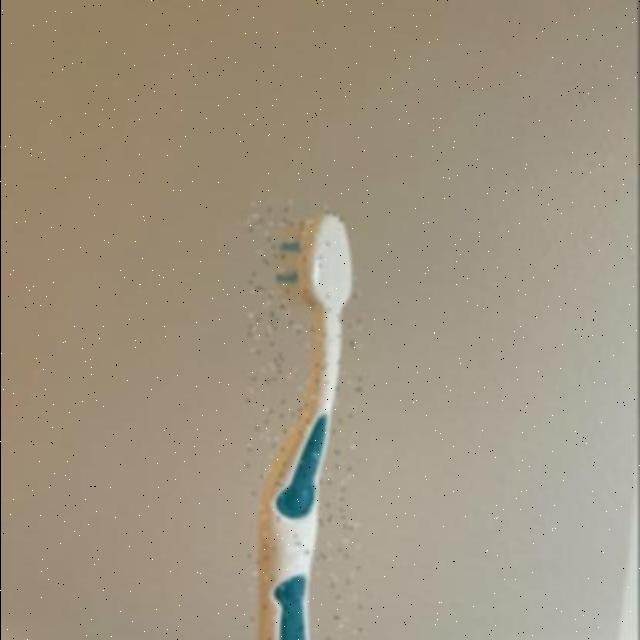toothbrush: (248, 202, 362, 640)
